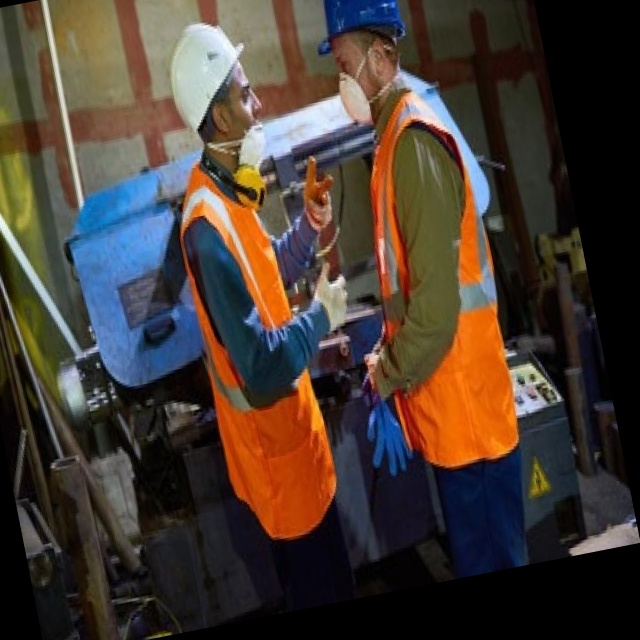Con_Chaleco: (344, 89, 530, 475), (164, 154, 341, 532)
